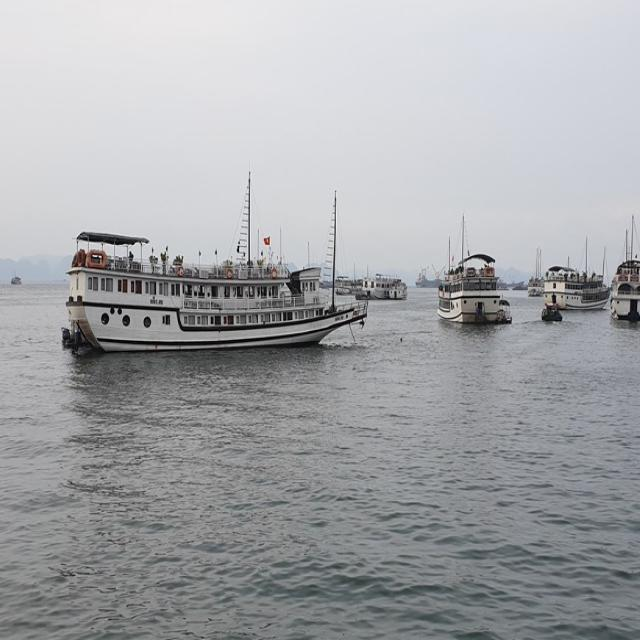passenger ship: (27, 227, 370, 347), (442, 250, 507, 338), (608, 248, 640, 356), (336, 252, 399, 298), (534, 280, 593, 327)
